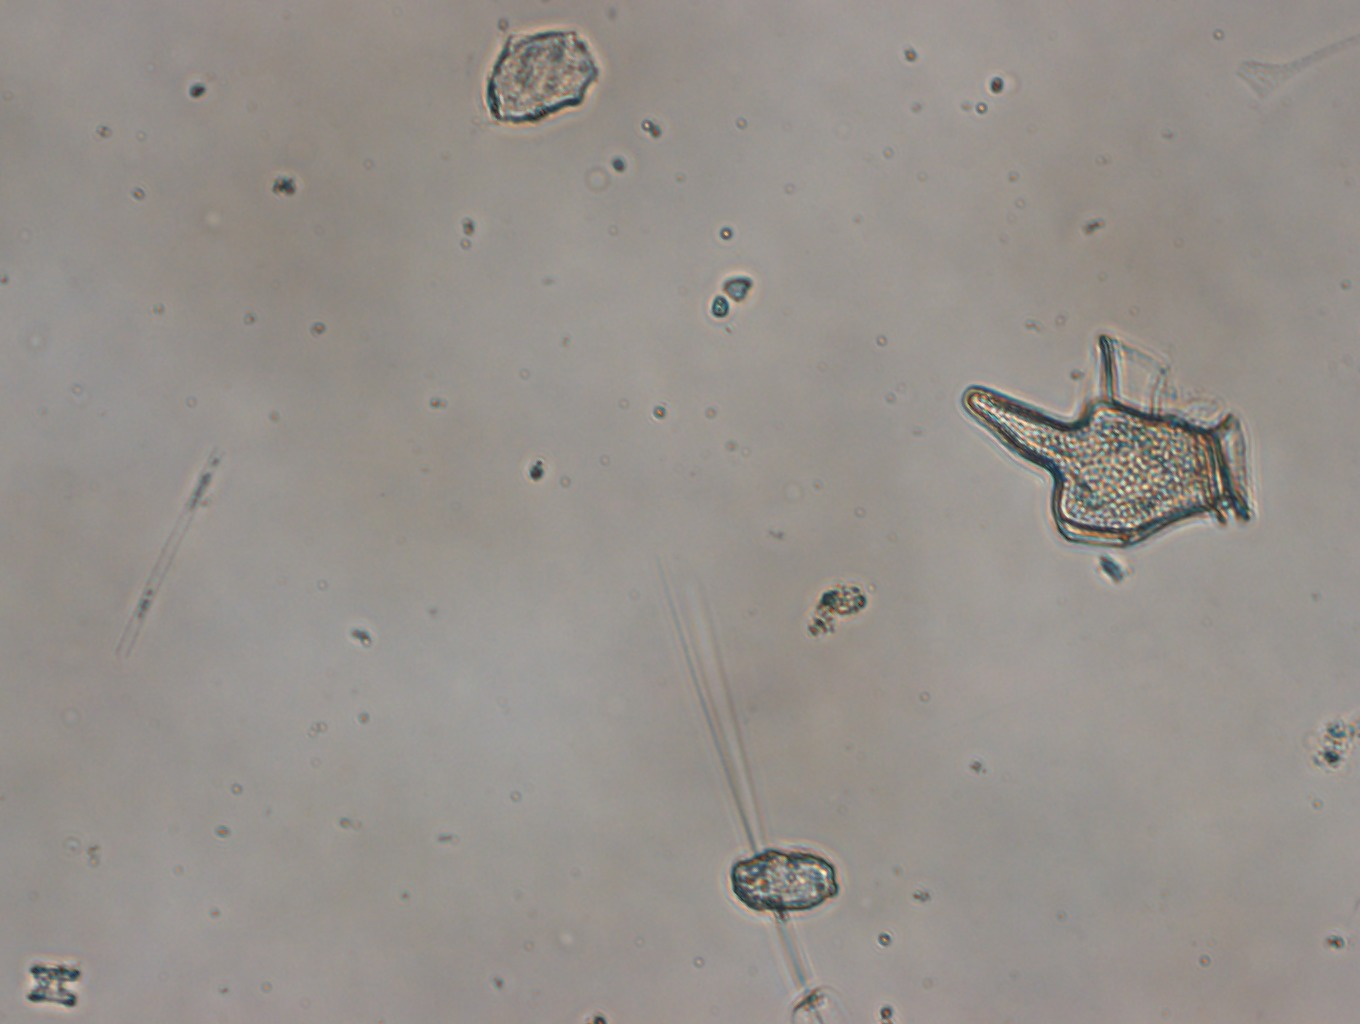dinophysis caudata: (962, 322, 1268, 554)
